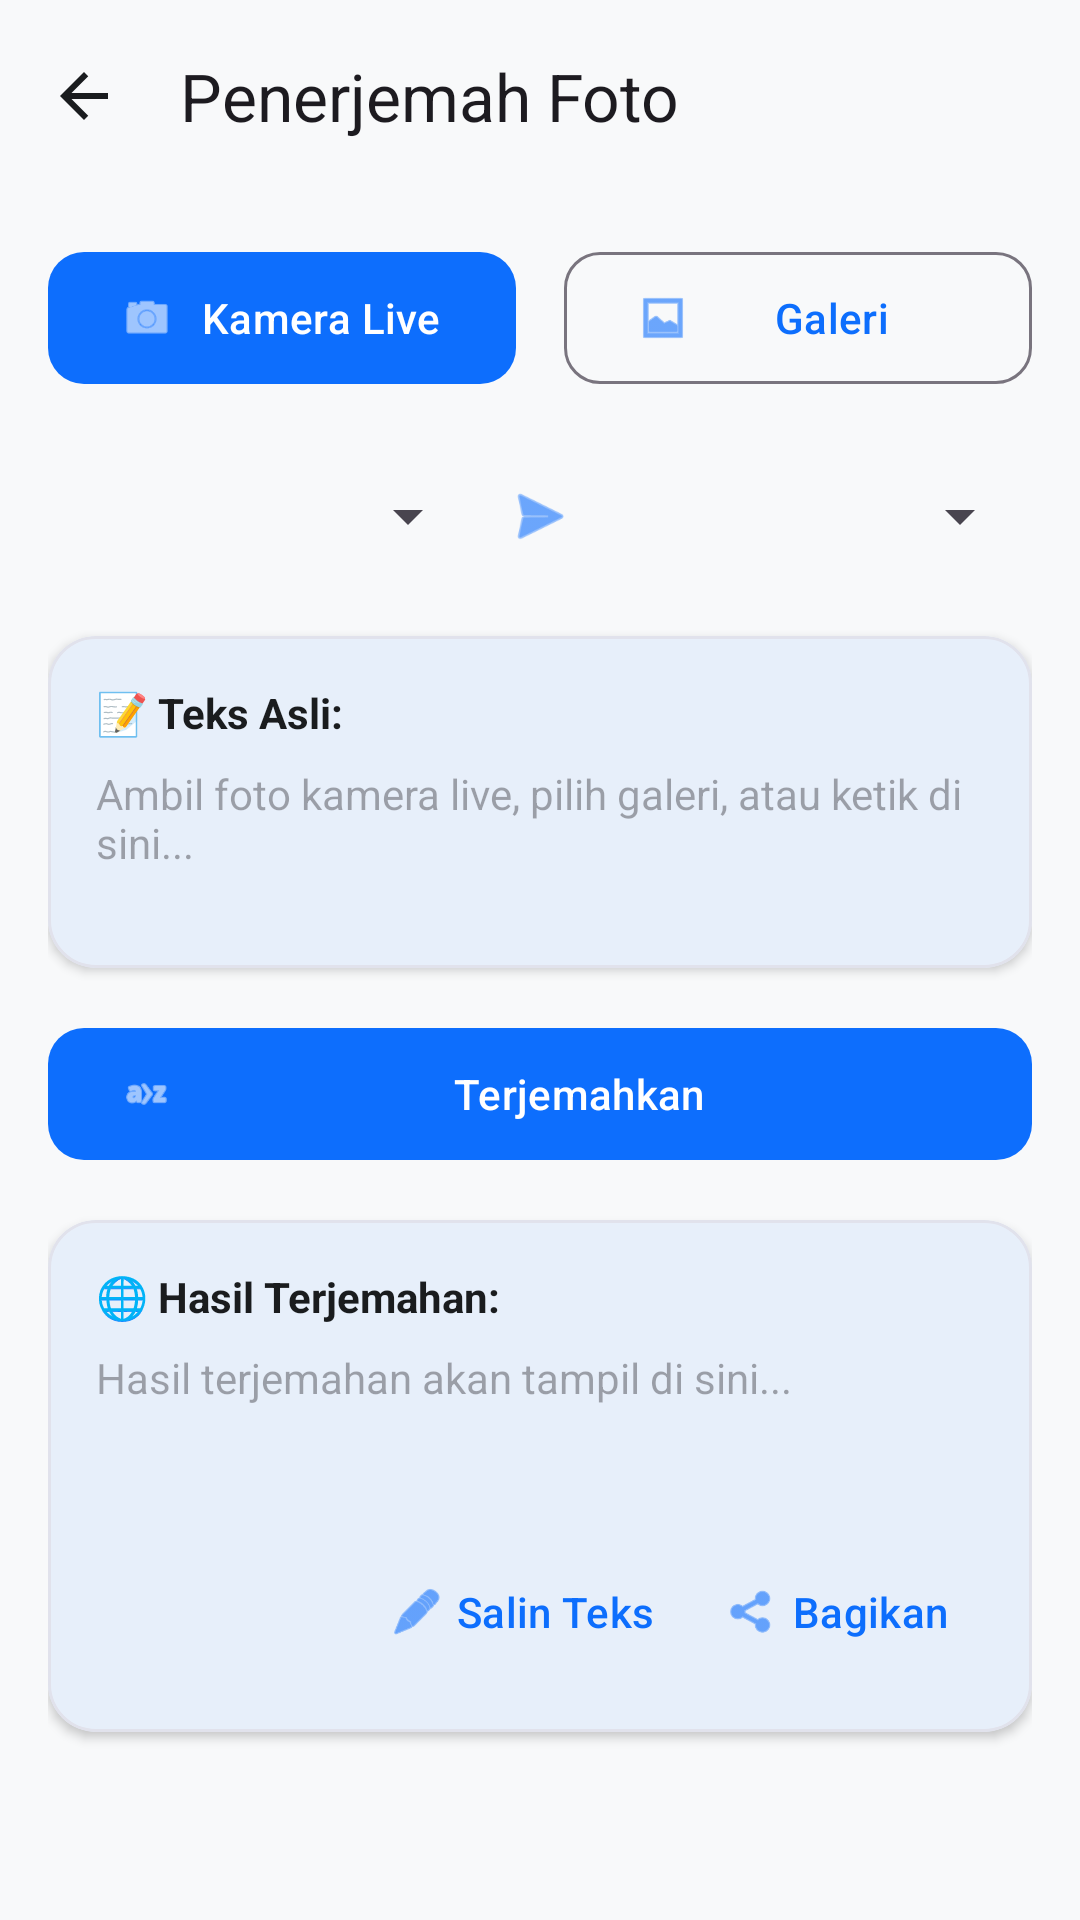

Screen size 1080×1920. Icon name, then its box in pixels as (x1, y1, x2, y2):
send: (518, 494, 564, 539)
